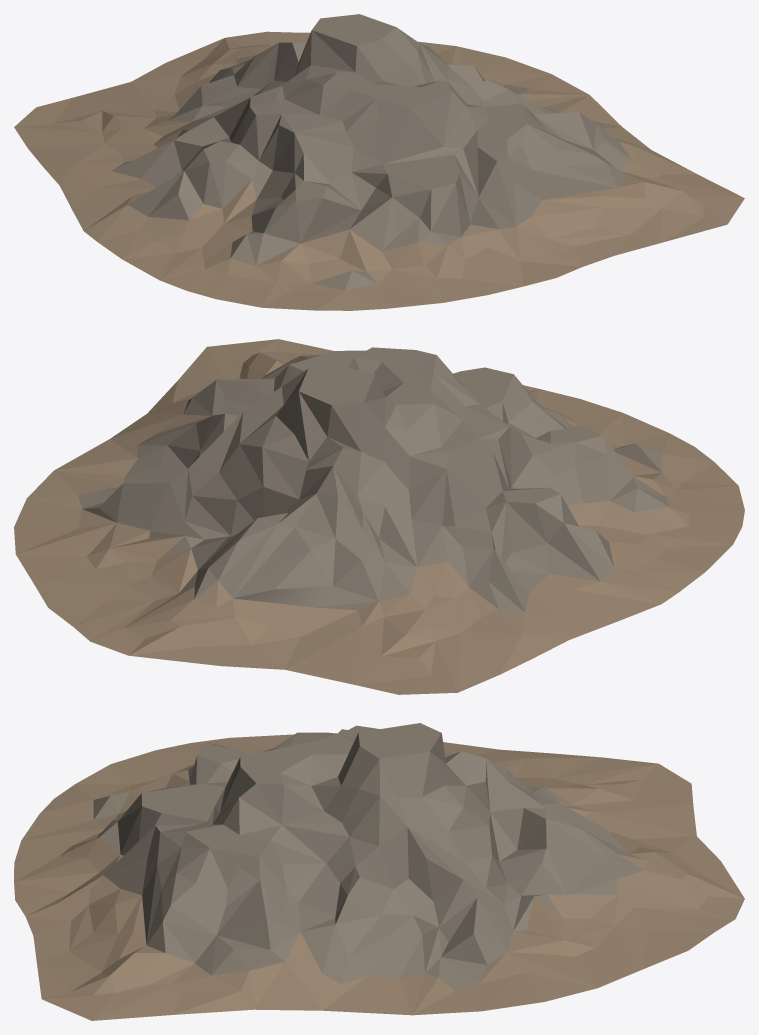
Rendered from SM_Env_Mountain_02.fbx.
3 views of the same model, one above another, from view 1: azimuth 30°, elevation 25°; view 2: azimuth 150°, elevation 25°; view 3: azimuth 270°, elevation 25° (orthographic). The views are drawn at different scales.
Parts seen in each view (by area): view 1: SM_Env_Mountain_02; view 2: SM_Env_Mountain_02; view 3: SM_Env_Mountain_02.
Boxes of the visible parts, x1,y1,x2,y2 form: SM_Env_Mountain_02: (14,14,744,310); SM_Env_Mountain_02: (14,339,744,694); SM_Env_Mountain_02: (14,723,744,1020).
Size of the model in its own units: 4757 by 1109 by 5118.
